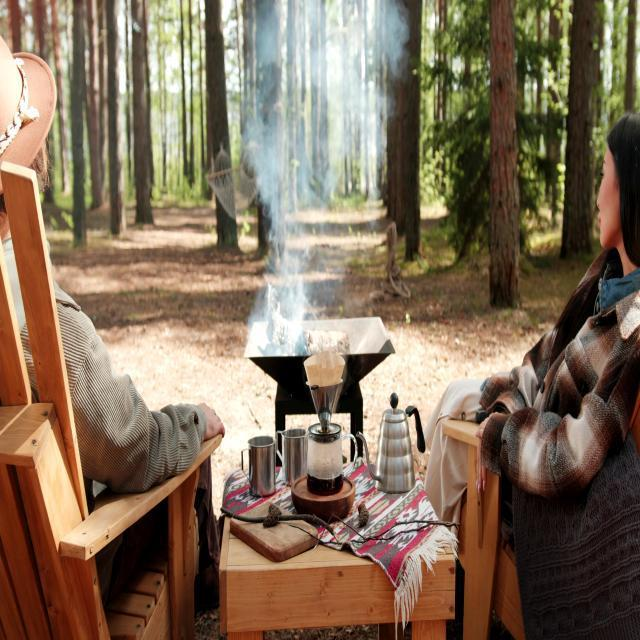Smoke: (220, 0, 412, 360)
